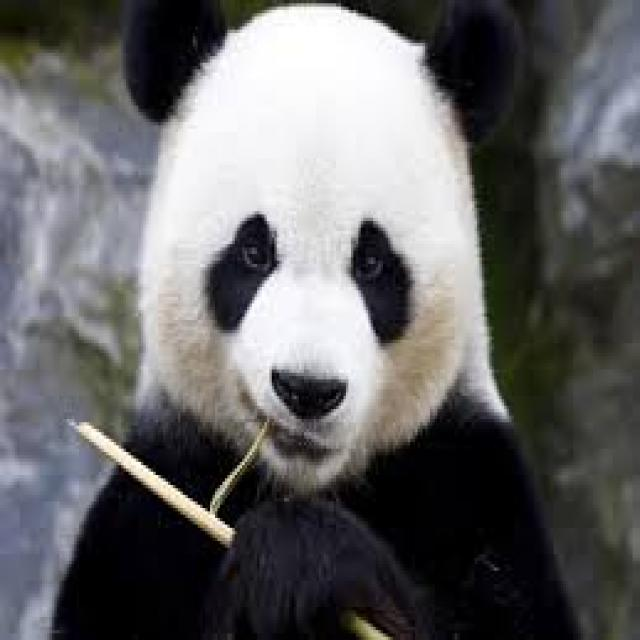Panda: (45, 0, 599, 640)
